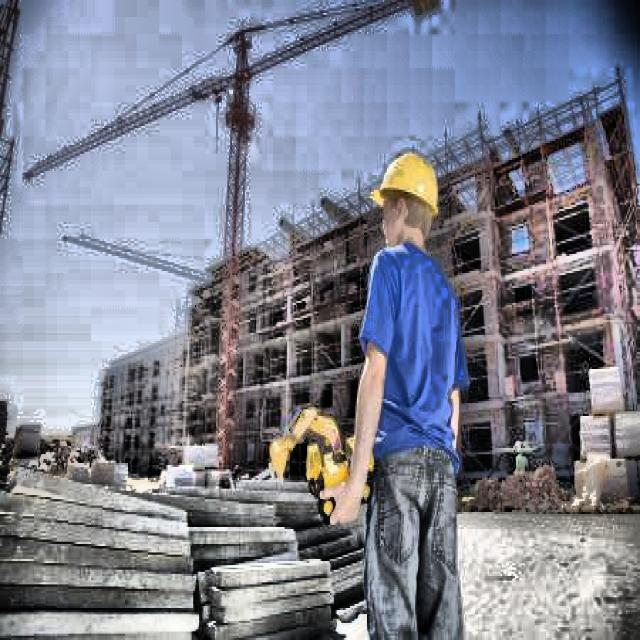helmet: (374, 143, 445, 262)
